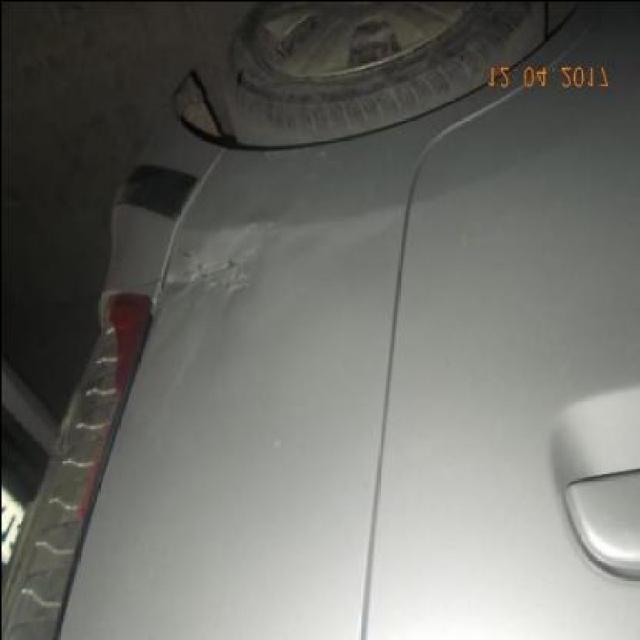damage: (149, 237, 252, 315)
